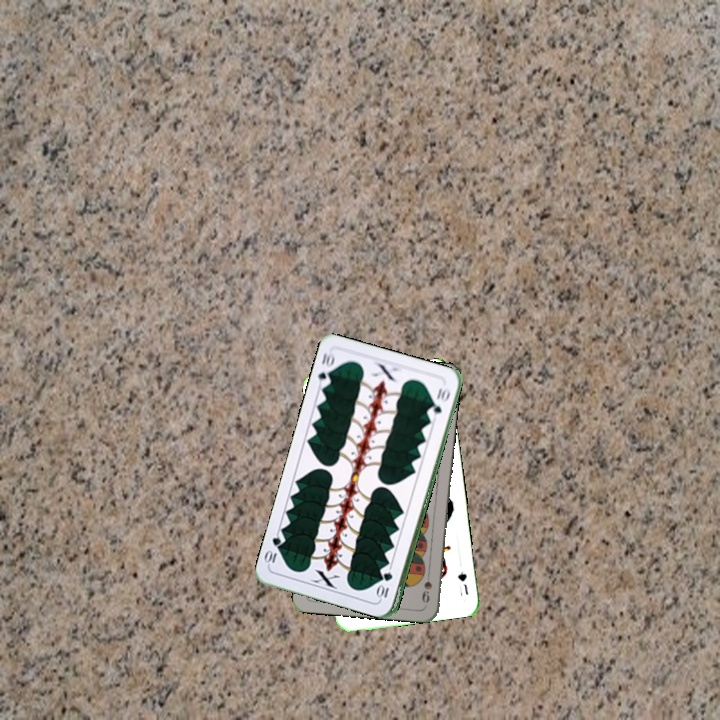G10: (314, 350, 337, 390), (376, 567, 395, 601)
GU: (454, 567, 471, 597)
S9: (418, 566, 434, 606)
